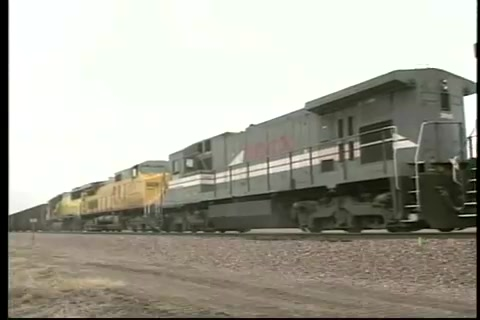train: (11, 67, 479, 238)
